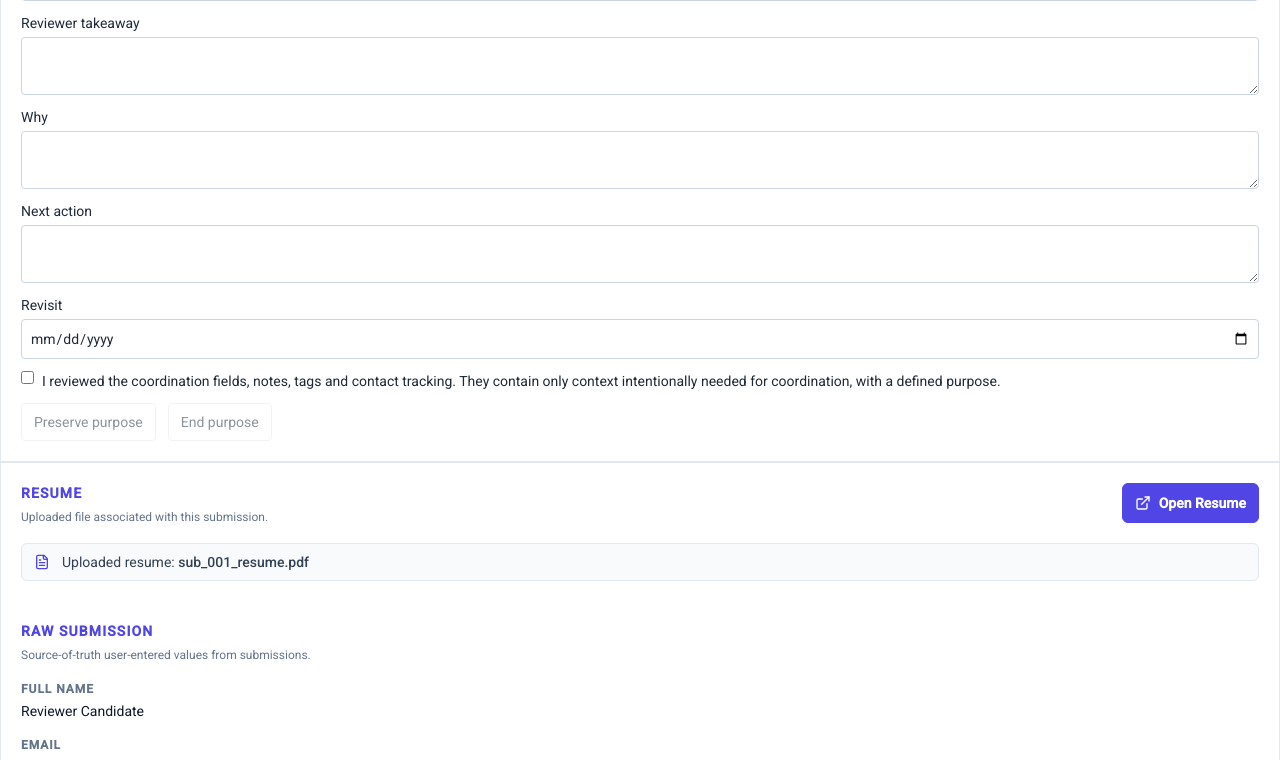
Test: InboxDetailPanel resume access › requires review before an explicit lifecycle write and sends no client timestamps
The width and height of the screenshot is (1280, 760).
(page scrolled)
Check: the button "Preserve purpose" is disabled, box [21,403,156,441]
Click the checkbox: (28, 378) [21,371,34,384]
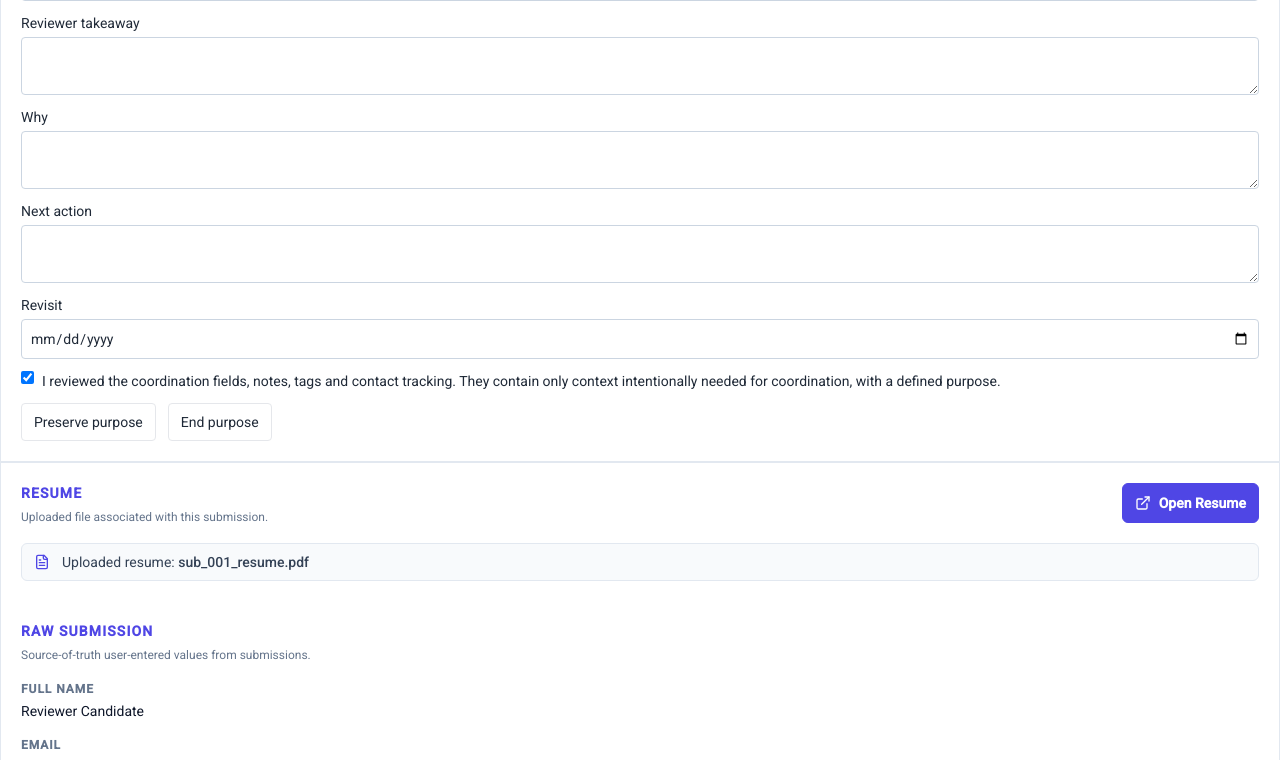
Click the button "Preserve purpose": (88, 422) [21,403,156,441]
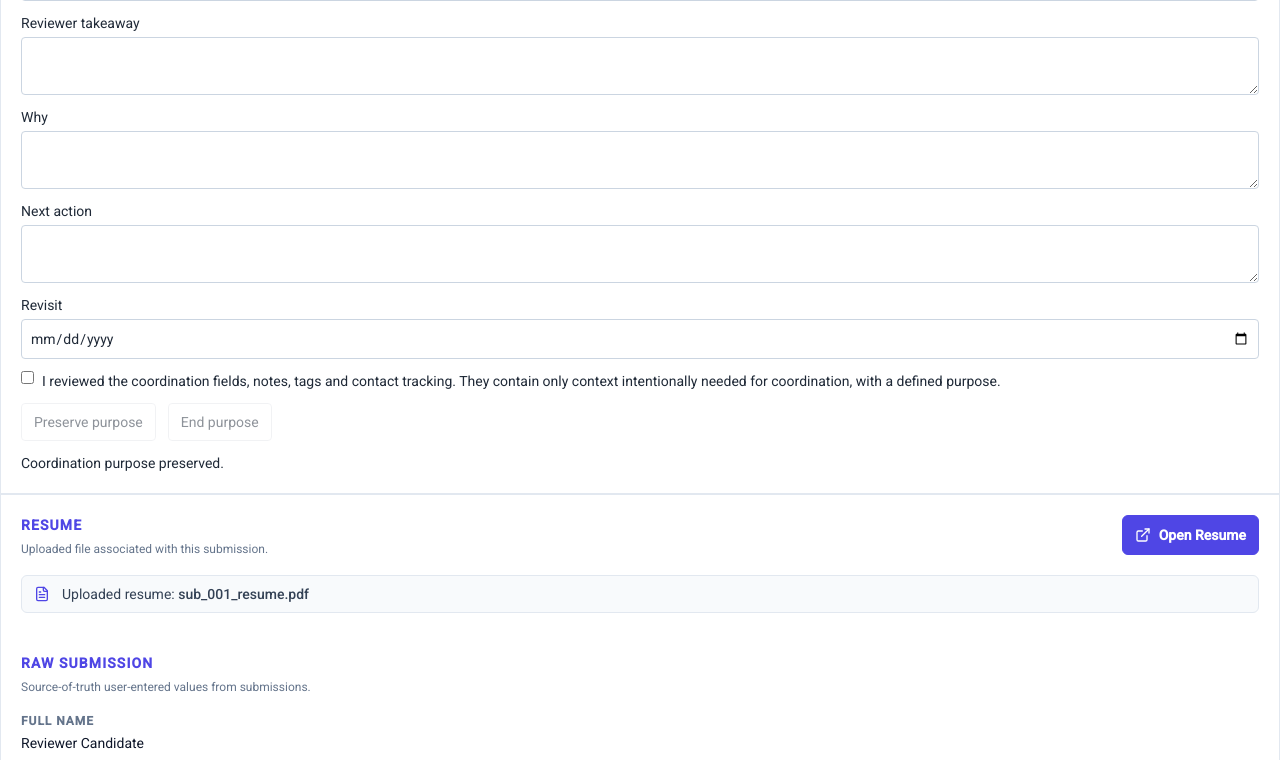
Check: the text "Coordination purpose preserved." is shown, box [21,455,224,471]
Check: the button "Preserve purpose" is disabled, box [21,403,156,441]
